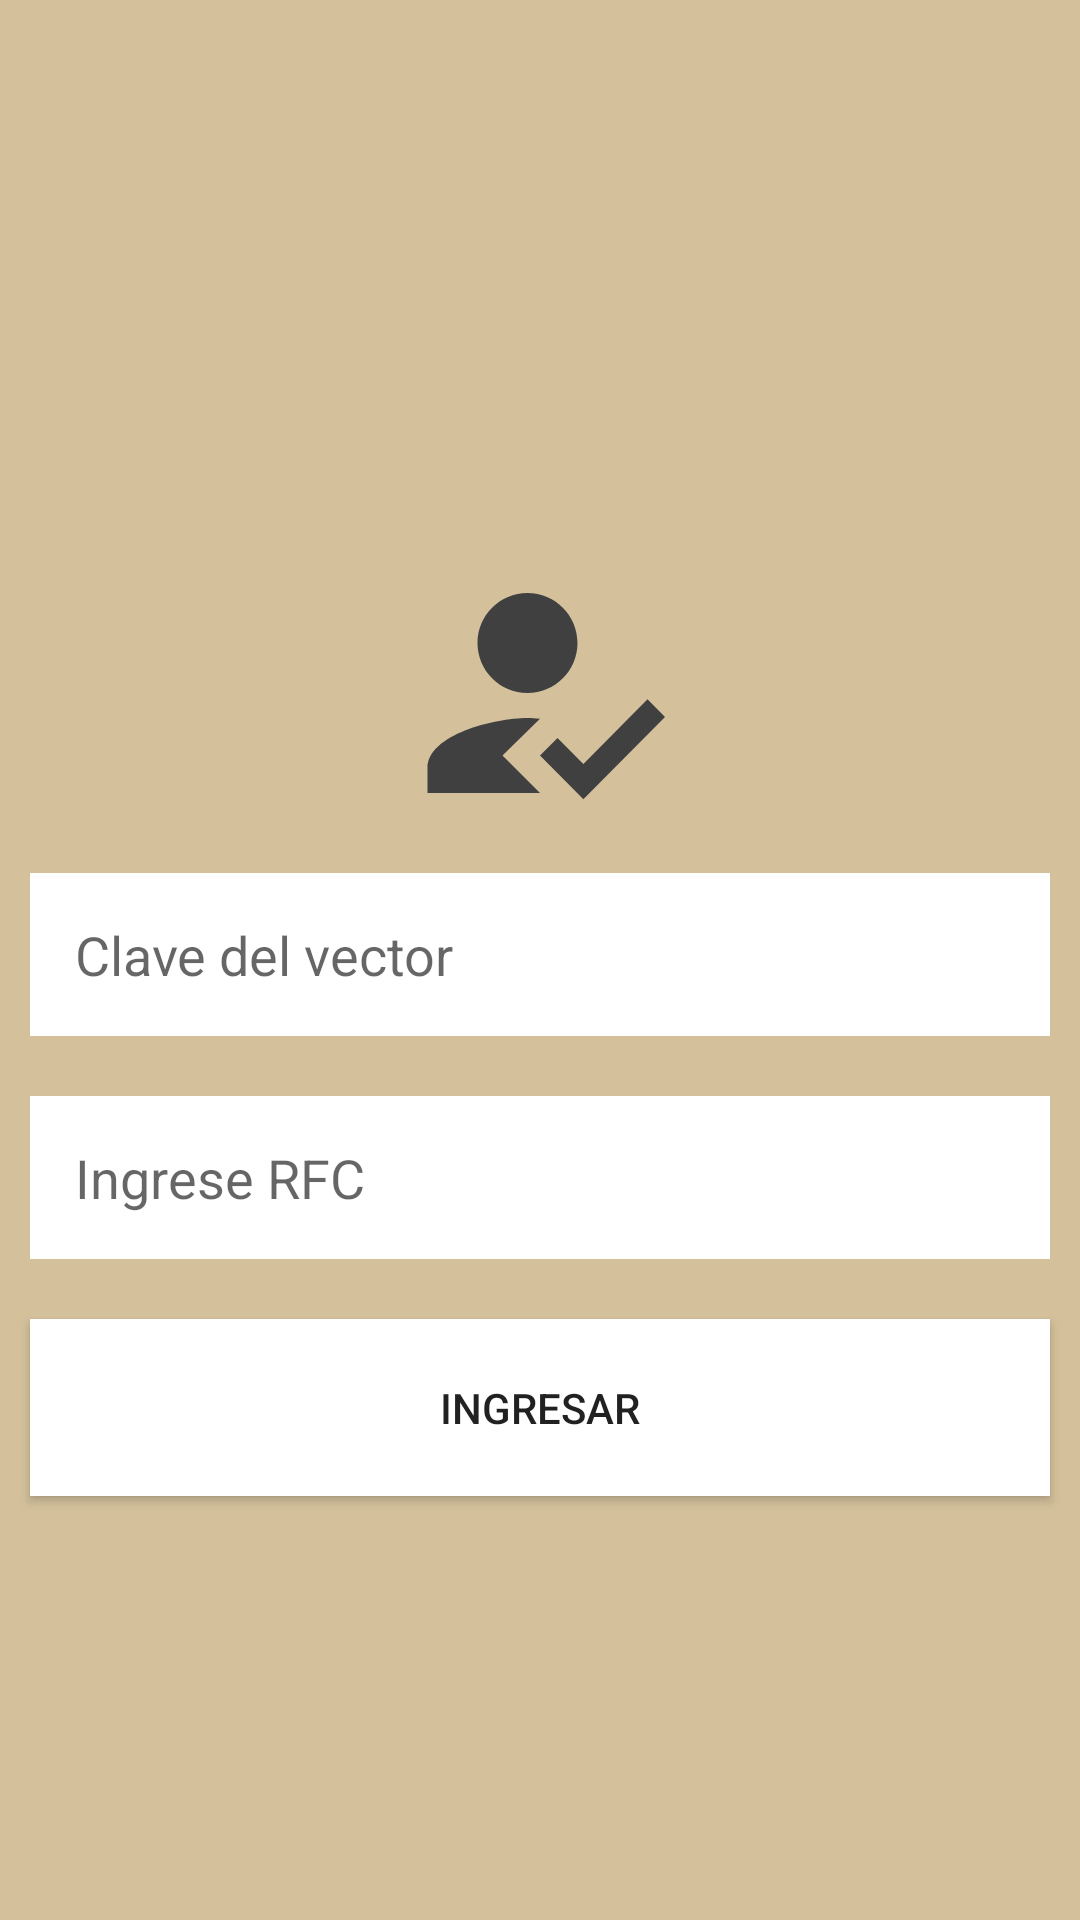

Icons on this 1080 x 1920 Android screen, each with the point to tap as point (x, y):
iconologin: point (546, 696)
